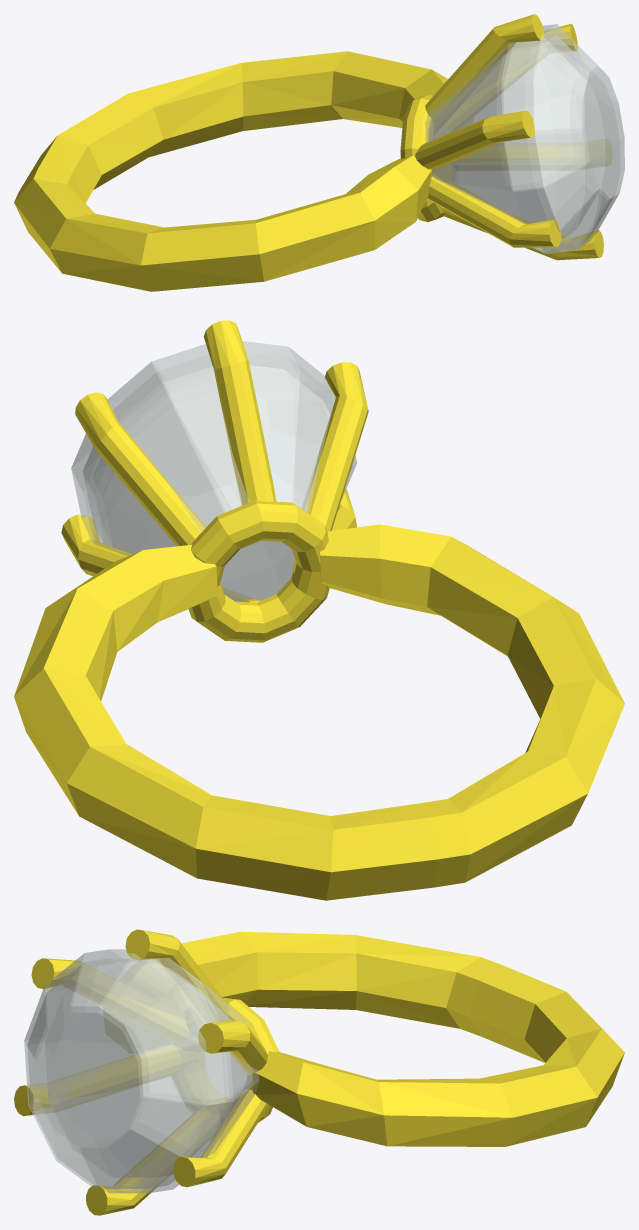
Rendered from diamond_solitaire_ring.glb.
3 views of the same model, one above another, from view 1: azimuth 30°, elevation 25°; view 2: azimuth 150°, elevation 25°; view 3: azimuth 270°, elevation 25° (orthographic). The views are drawn at different scales.
Visible parts, largest first — view 1: Node; view 2: Node; view 3: Node.
Part boxes in pixels (bbox=[...]): Node: bbox=[14, 14, 624, 291]; Node: bbox=[14, 320, 624, 900]; Node: bbox=[14, 929, 624, 1215].
Bounding box in the file's own units: 0.3967 × 0.1934 × 0.3912.
